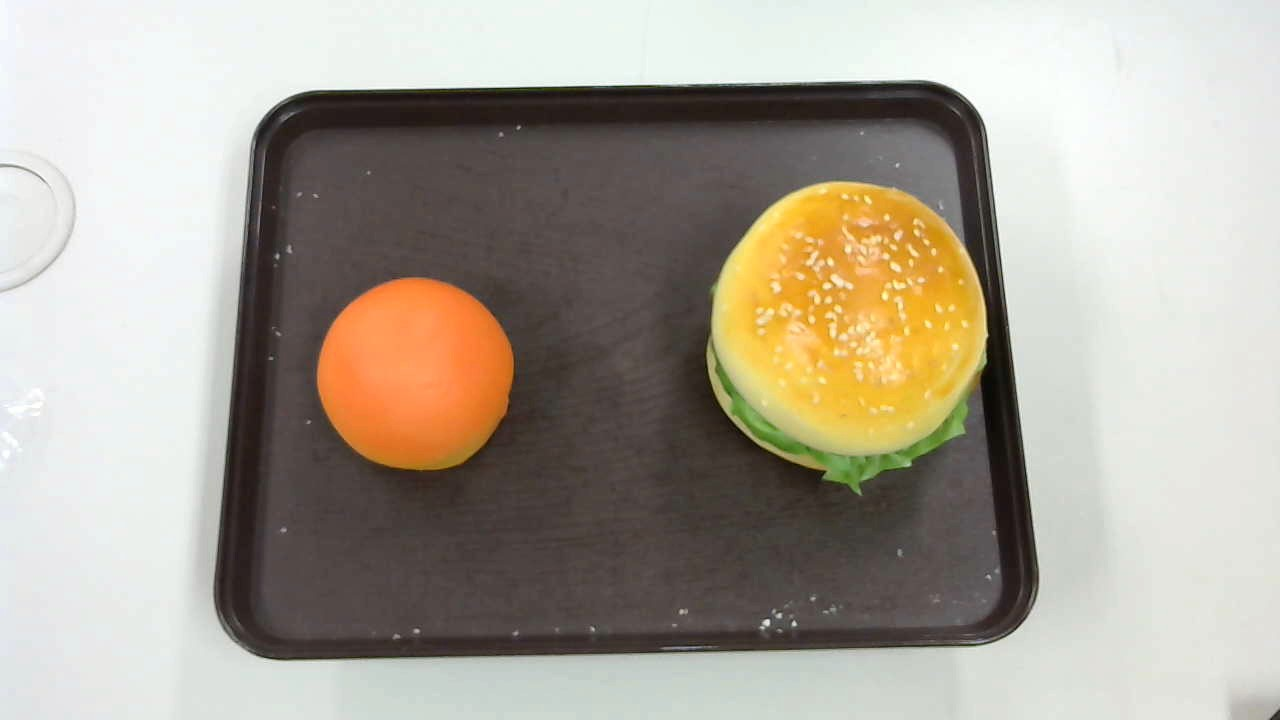bun: (317, 277, 514, 469)
hamburger: (707, 181, 988, 492)
